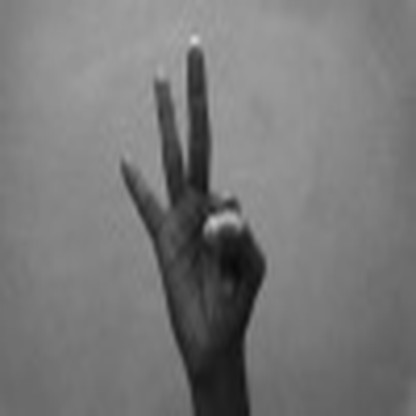f: (109, 27, 274, 369)
